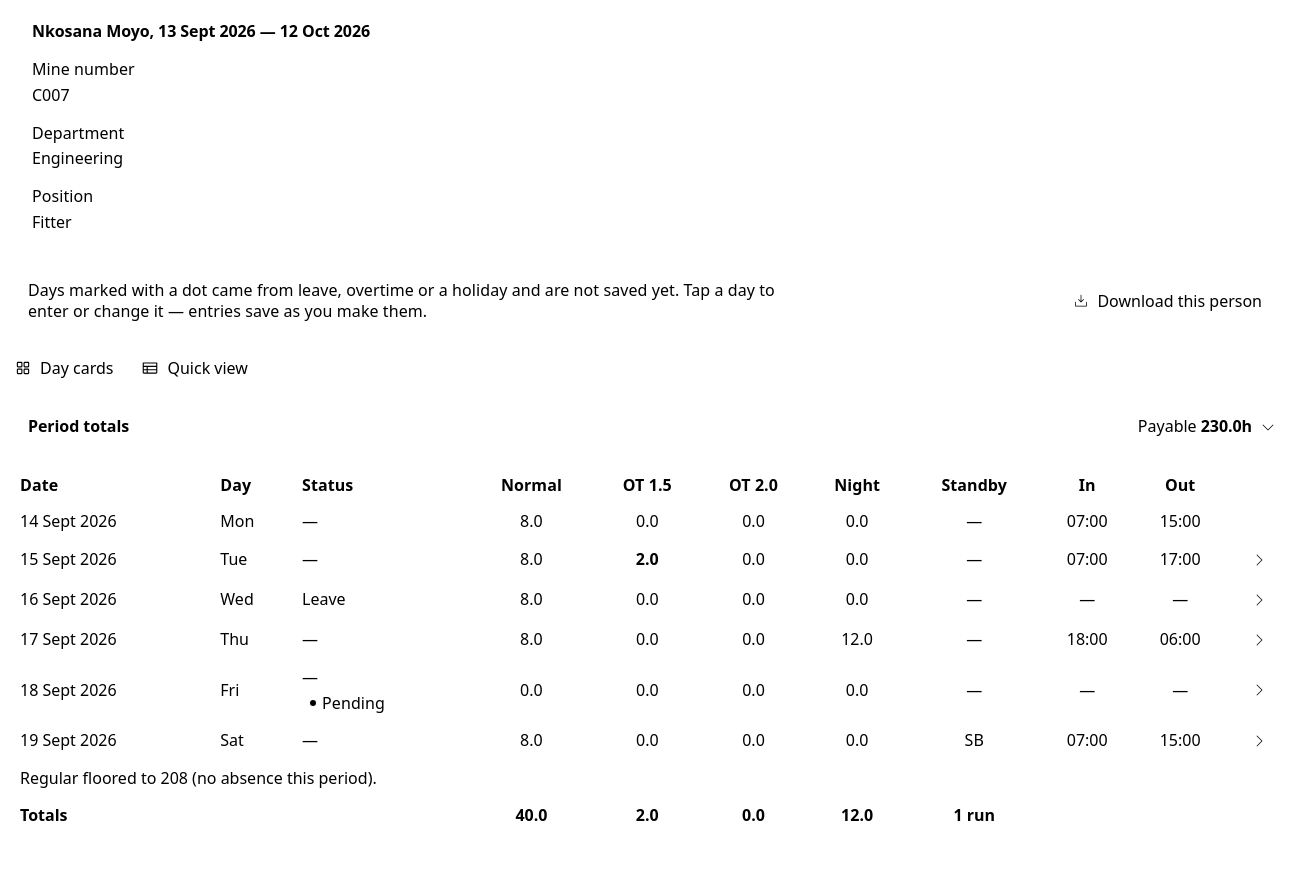
Scenario: NecPersonView › heads the period with the person and the authoritative totals
This screenshot has width=1292, height=891.
Expected: the heading "Nkosana Moyo, 13 Sept 2026 — 12 Oct 2026" is shown, [32,20,370,42]
Expected: the text "C007" is shown, [32,84,70,106]
Click the button with aria-label "Show Period totals": click(79, 426) [28,415,1276,439]
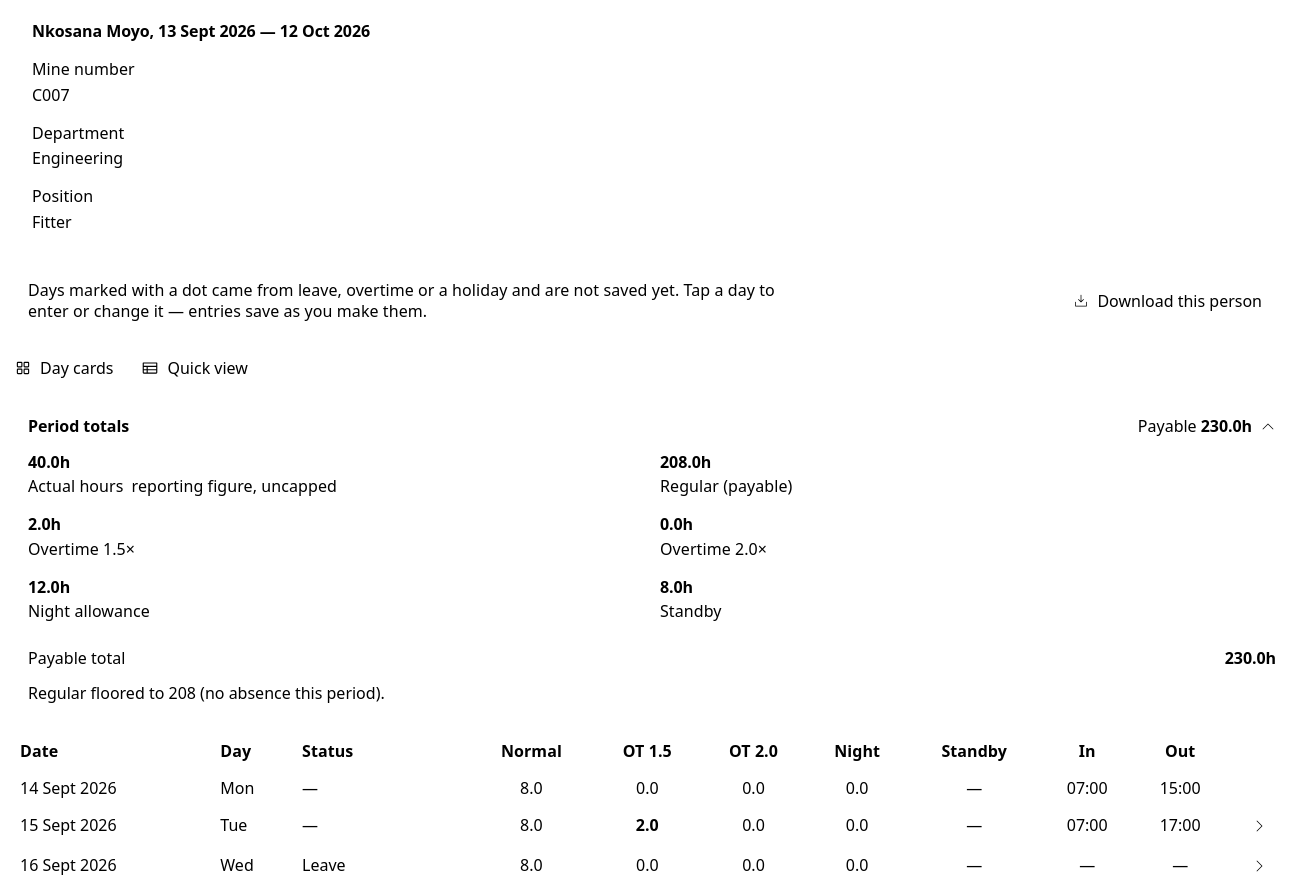
Expected: the text "40.0h" is shown, [28,451,70,473]
Expected: the text "Regular floored to 208 (no absence this period)." is shown 2 times
